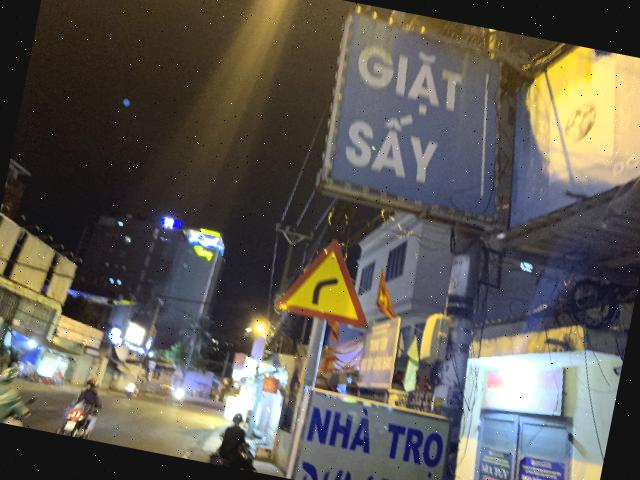cho-ngoat-nguy-hiem-ben-phai: (272, 228, 384, 328)
